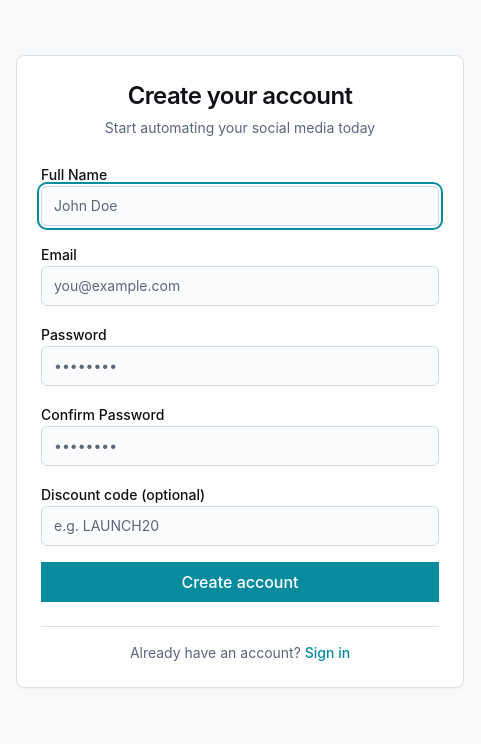
Auth Pages › RegisterPage › should validate full name field
Click the button "Create account".
click(240, 582)  # box [41, 562, 439, 602]
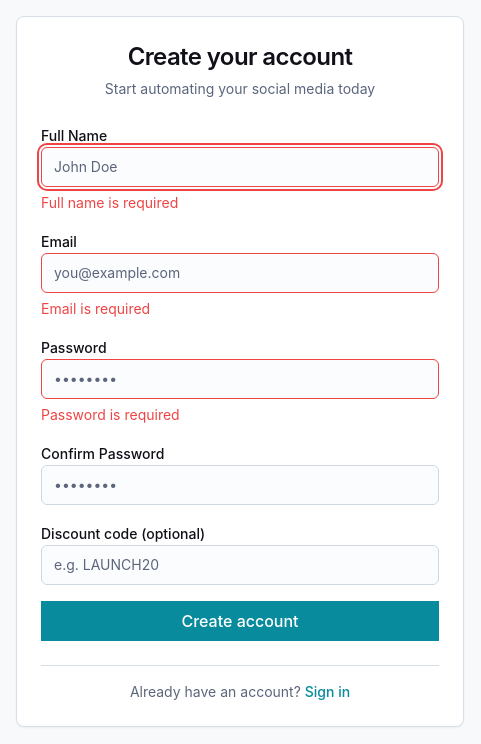
Now the text "Full name is required" is shown, box [41, 194, 178, 210]
